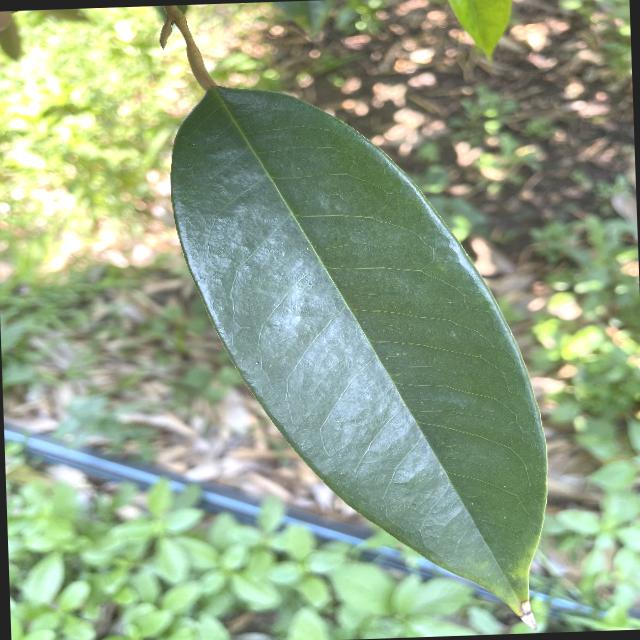No Disease: (158, 65, 563, 639)
